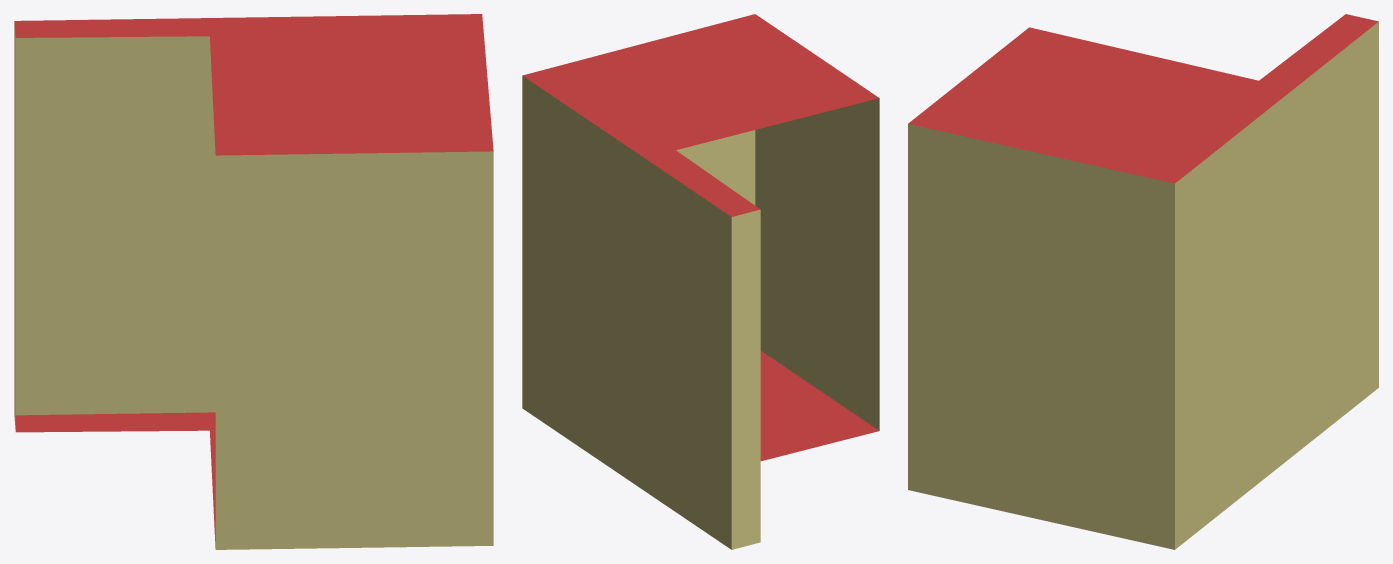
The picture shows the model from 3 angles, left to right: view 1: azimuth 30°, elevation 25°; view 2: azimuth 150°, elevation 25°; view 3: azimuth 270°, elevation 25°; orthographic projection. The views are drawn at different scales.
Parts seen in each view (by area): view 1: group_4, group_3, group_5; view 2: group_4, group_3, group_5; view 3: group_4, group_3.
Part boxes in pixels (left/top/right/bottom): group_4: left=14, top=23, right=493, bottom=549; group_3: left=14, top=14, right=493, bottom=155; group_5: left=15, top=412, right=215, bottom=547; group_4: left=522, top=76, right=879, bottom=549; group_3: left=522, top=14, right=879, bottom=216; group_5: left=760, top=351, right=878, bottom=461; group_4: left=908, top=21, right=1378, bottom=549; group_3: left=908, top=14, right=1378, bottom=183.
Bounding box in the file's own units: 8.3 × 9.73 × 8.35.
